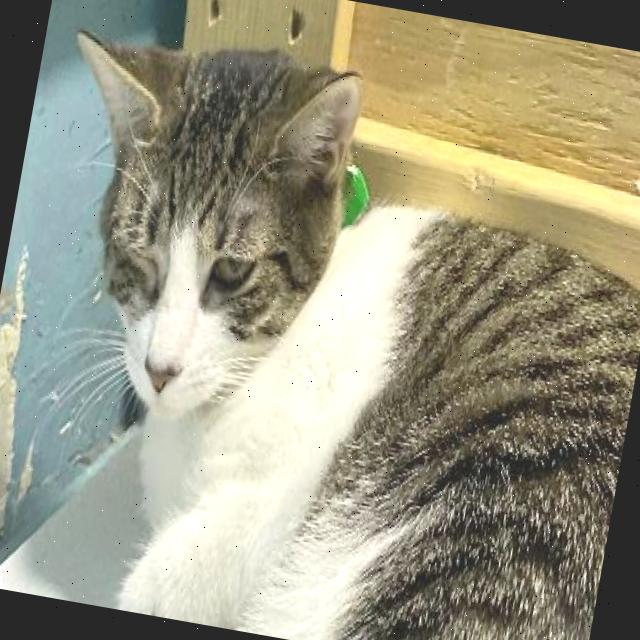domestic_short_hair_cat: (0, 0, 406, 480)
